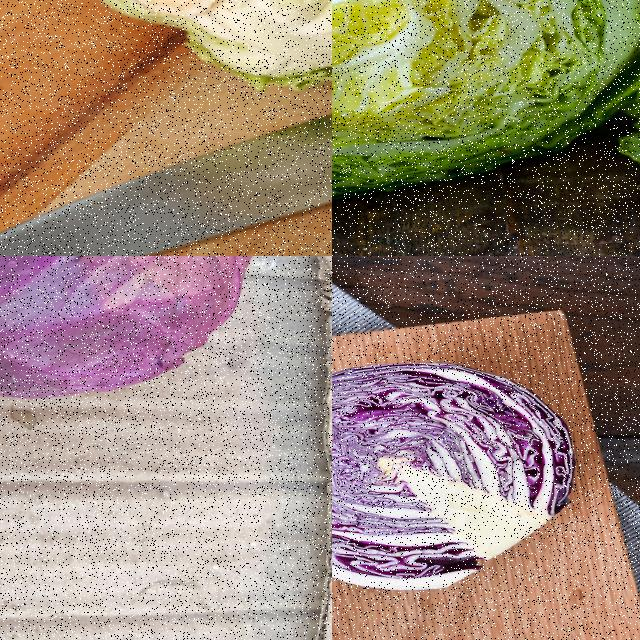cabbage: (332, 0, 639, 236), (332, 359, 566, 587), (0, 256, 253, 400), (71, 0, 331, 100)
